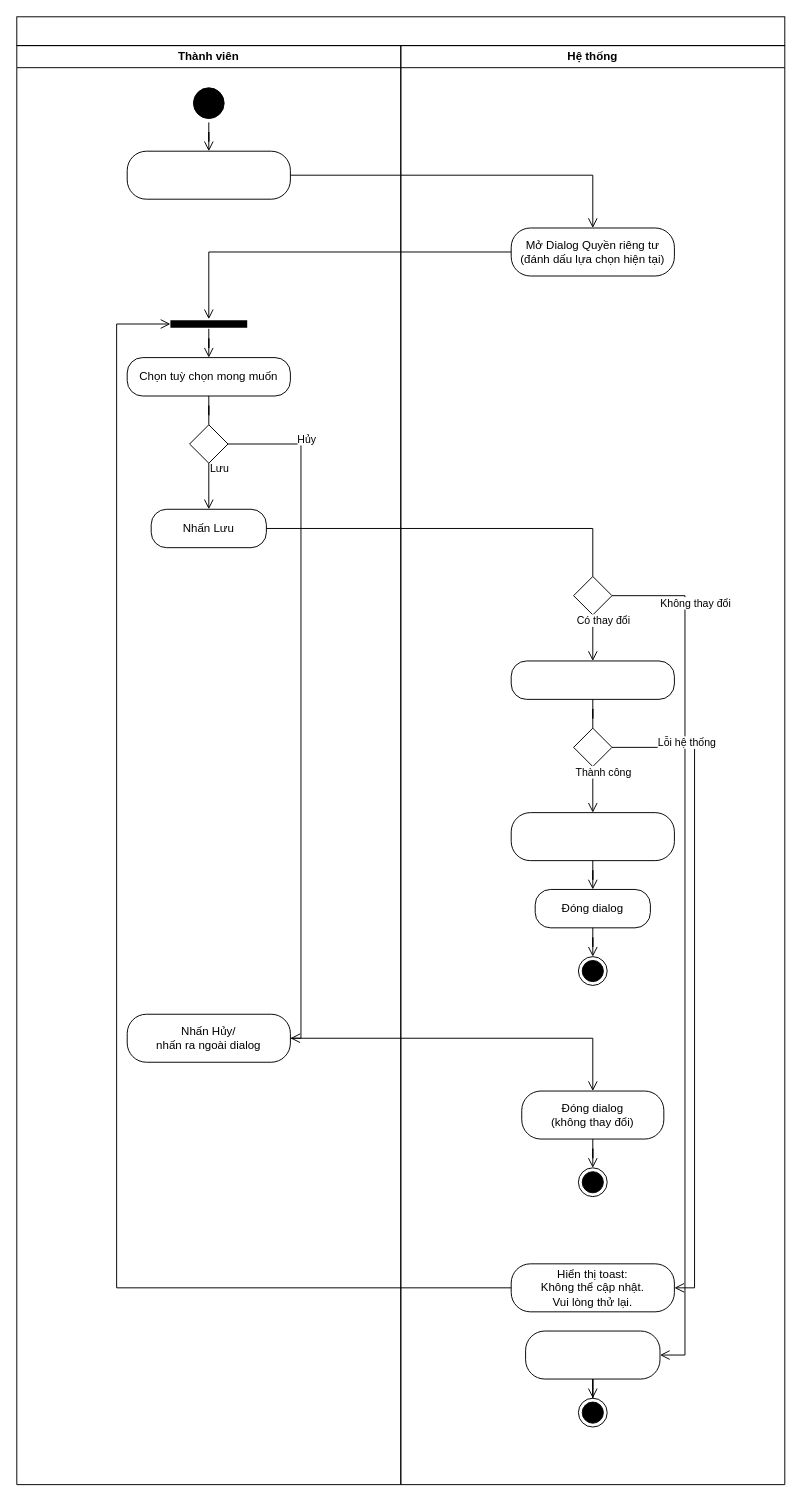
Some shapes in this 802 by 1501 pixel diagram are drawn without their labels. The shapes that lost their labels are listed below. From the top down, each one's centre as x and y in pixels, then its label:
At (x=400, y=31): "CHỈNH SỬA QUYỀN RIÊNG TƯ POST".
At (x=208, y=174): "Nhấn Quyền riêng tư trong menu ⋯".
At (x=592, y=679): "Cập nhật quyền riêng tư".
At (x=592, y=836): "Hiển thị toast: Đã cập nhật quyền riêng tư".
At (x=592, y=1354): "Đóng dialog (không gọi API)".
